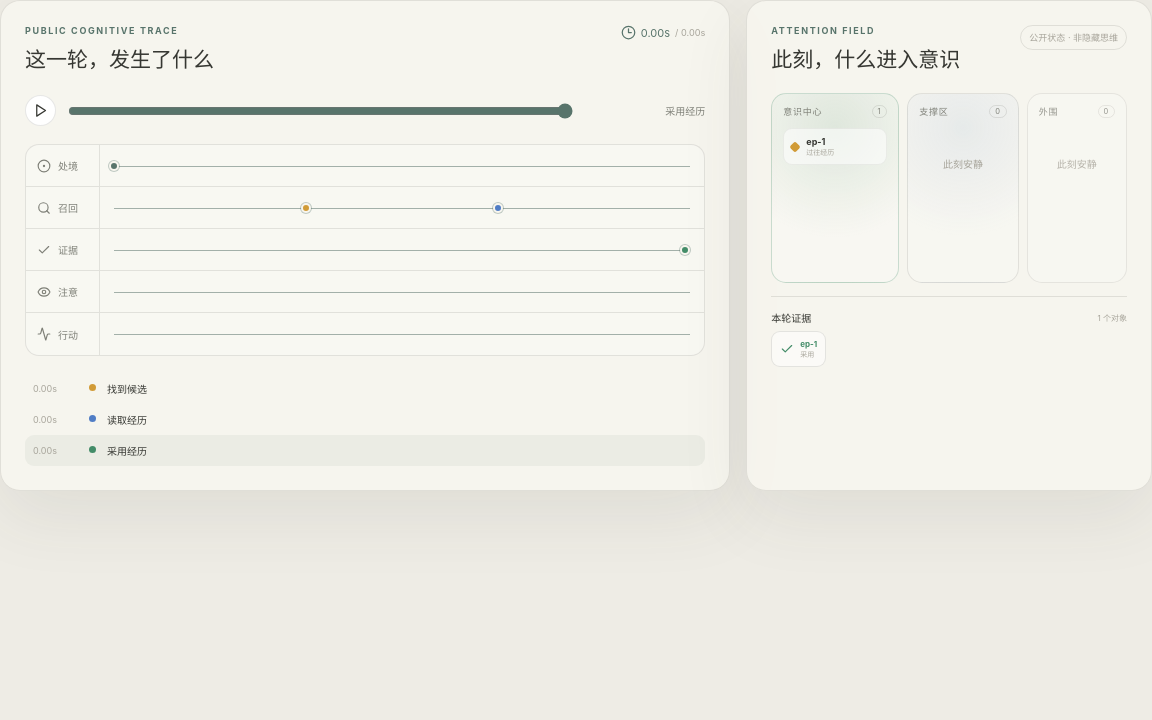
TurnStudio › renders synchronized public timeline, attention and evidence
Expected: the heading "这一轮，发生了什么" is shown, [25, 43, 214, 73]
Expected: the heading "此刻，什么进入意识" is shown, [771, 43, 960, 73]
Set the slider named "回放时间" to "10" at (239, 110), box [68, 102, 573, 118]
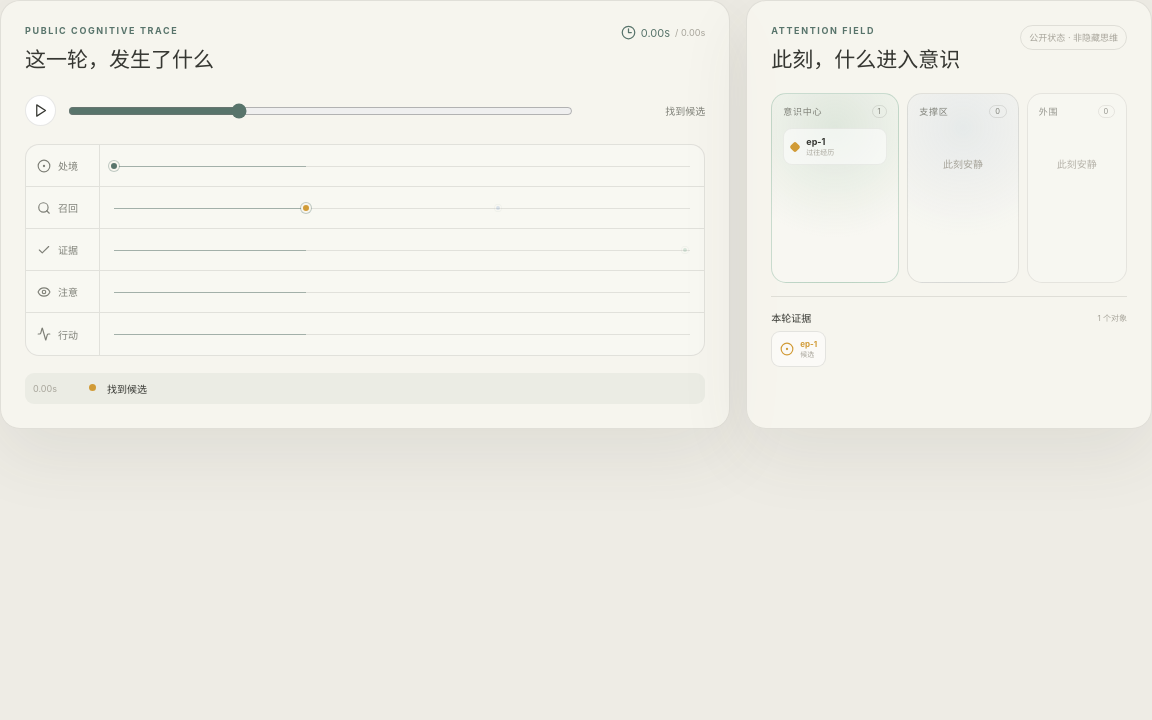
Now the 1st text "找到候选" is shown, box [665, 105, 705, 117]
